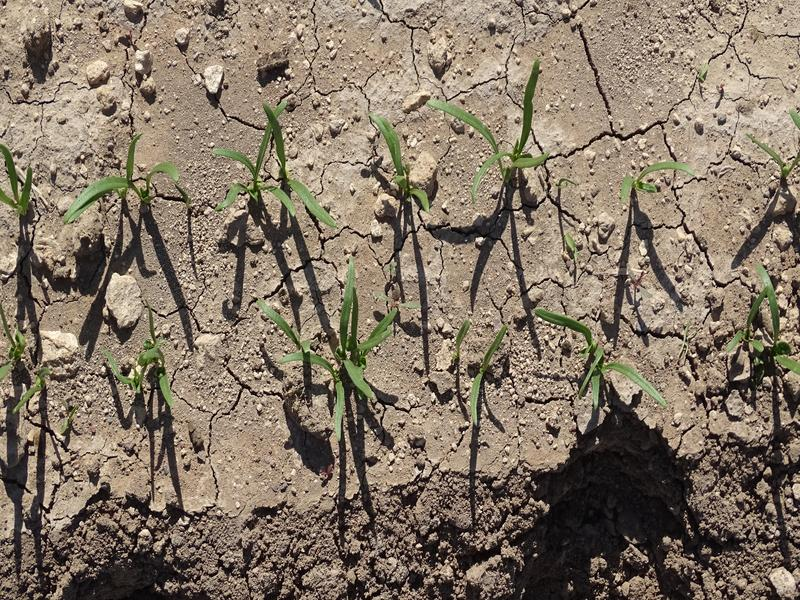Espinaca: (253, 263, 398, 422), (224, 108, 338, 229), (532, 311, 659, 402), (437, 87, 552, 187), (69, 133, 176, 221), (734, 268, 800, 372), (367, 111, 436, 209), (117, 313, 170, 408), (614, 160, 700, 213), (468, 327, 505, 416), (4, 143, 34, 224), (743, 132, 798, 176)
